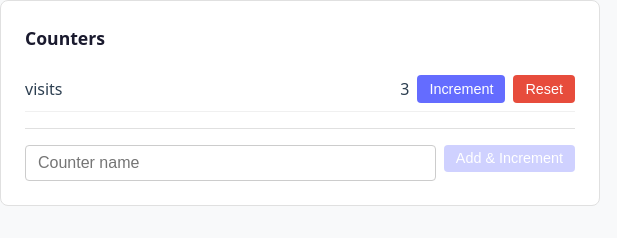
Test: CounterWidget — list view › shows per-row error on 429 during increment
Click the button with aria-label "Increment visits": coordinates (461, 89) x1=417 y1=75 x2=505 y2=103
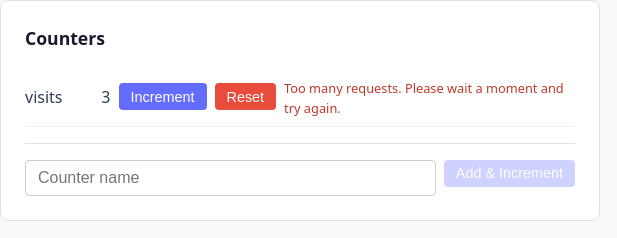
Expected: the text named "visits value" reads "3", x1=101 y1=86 x2=110 y2=108
Expected: the text "Too many requests. Please wait a moment and try again." is shown, x1=284 y1=79 x2=575 y2=118
